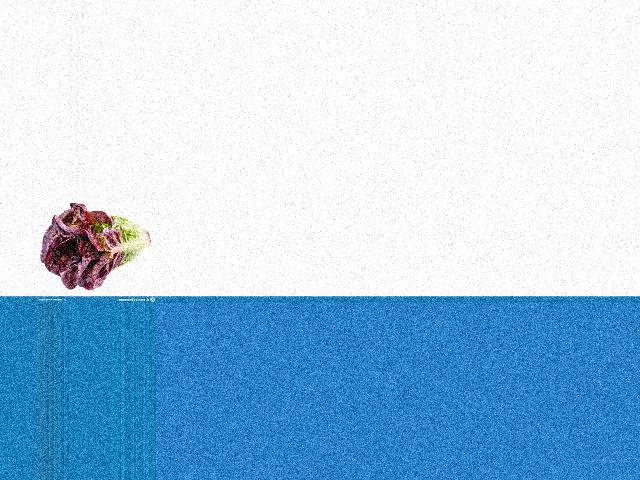lettuce: (42, 206, 151, 290)
